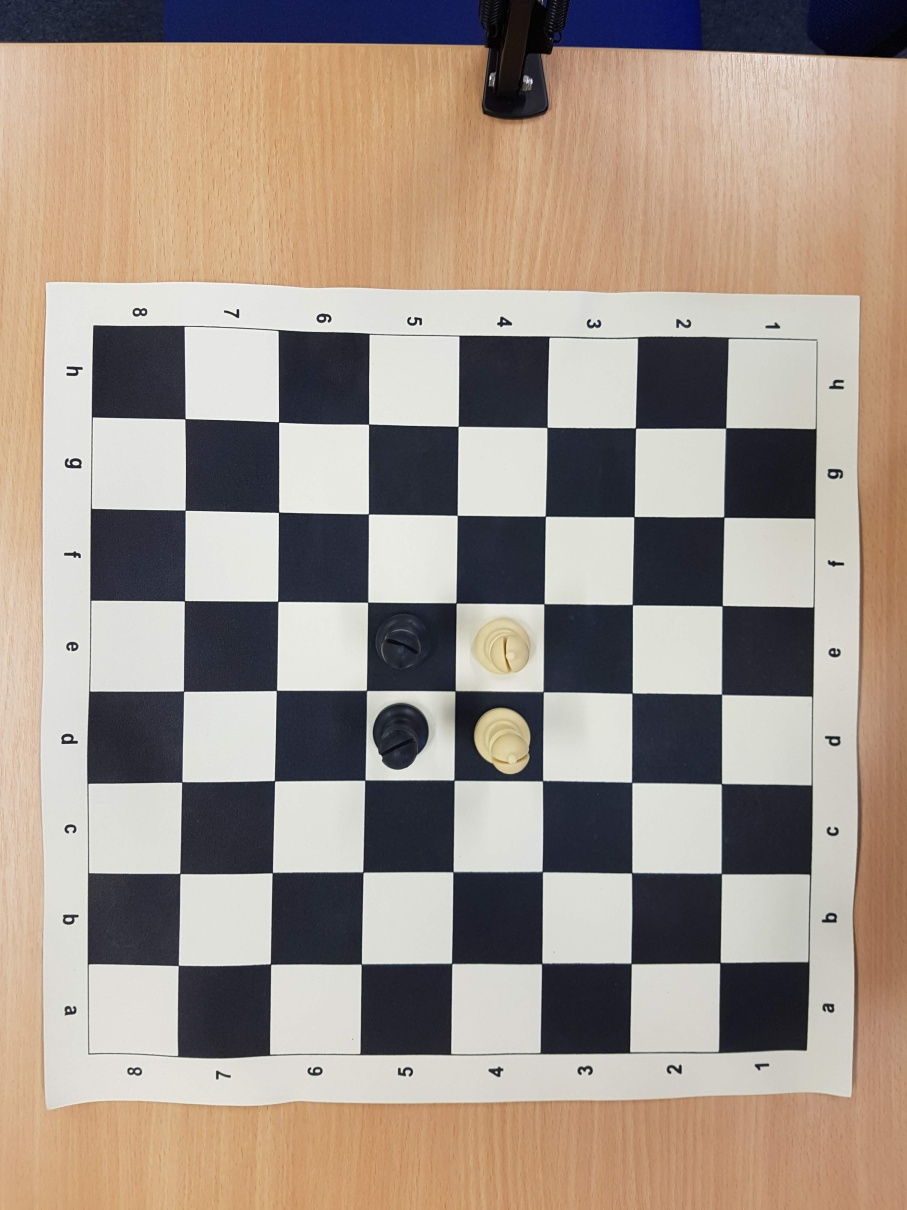chess_bishop: (477, 710, 531, 776), (376, 706, 426, 771), (375, 616, 432, 673), (475, 622, 528, 674)
